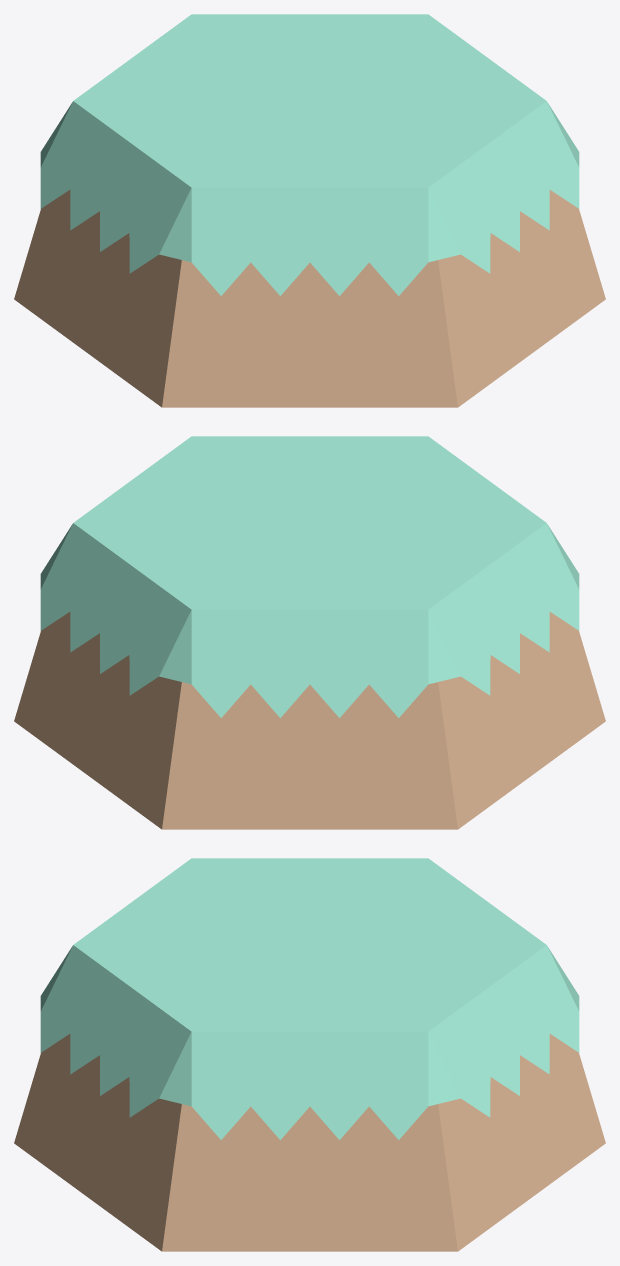
3 renders of one model, top to bottom at view 1: azimuth 30°, elevation 25°; view 2: azimuth 150°, elevation 25°; view 3: azimuth 270°, elevation 25°, orthographic.
Visible parts, largest first — view 1: blockHexagonLow; view 2: blockHexagonLow; view 3: blockHexagonLow.
Boxes of the visible parts, bbox=[...] form: blockHexagonLow: bbox=[14, 14, 605, 407]; blockHexagonLow: bbox=[14, 436, 605, 829]; blockHexagonLow: bbox=[14, 858, 605, 1251].
Size of the model in its own units: 1.01 by 0.427 by 1.15.
